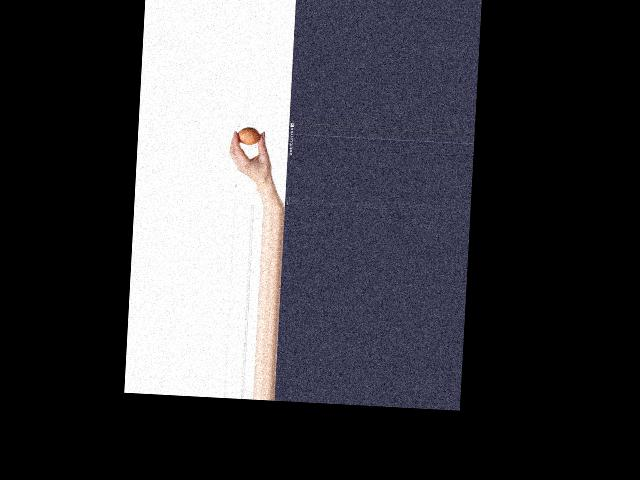egg: (237, 127, 260, 146)
